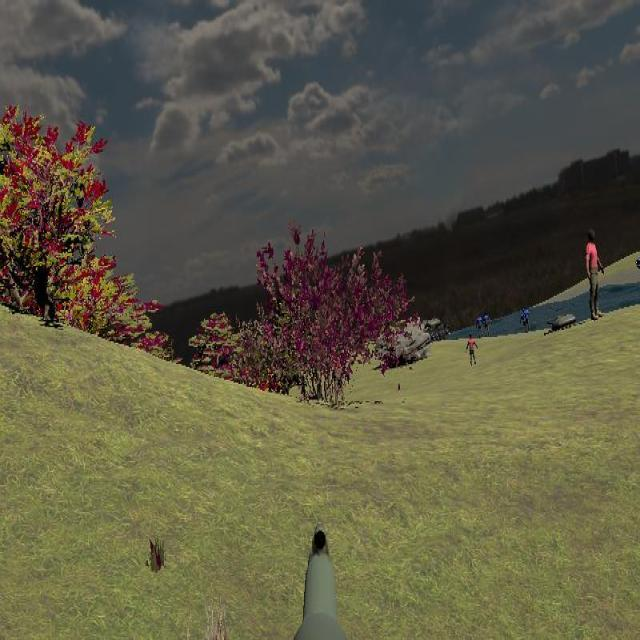Human: (466, 333, 478, 368)
